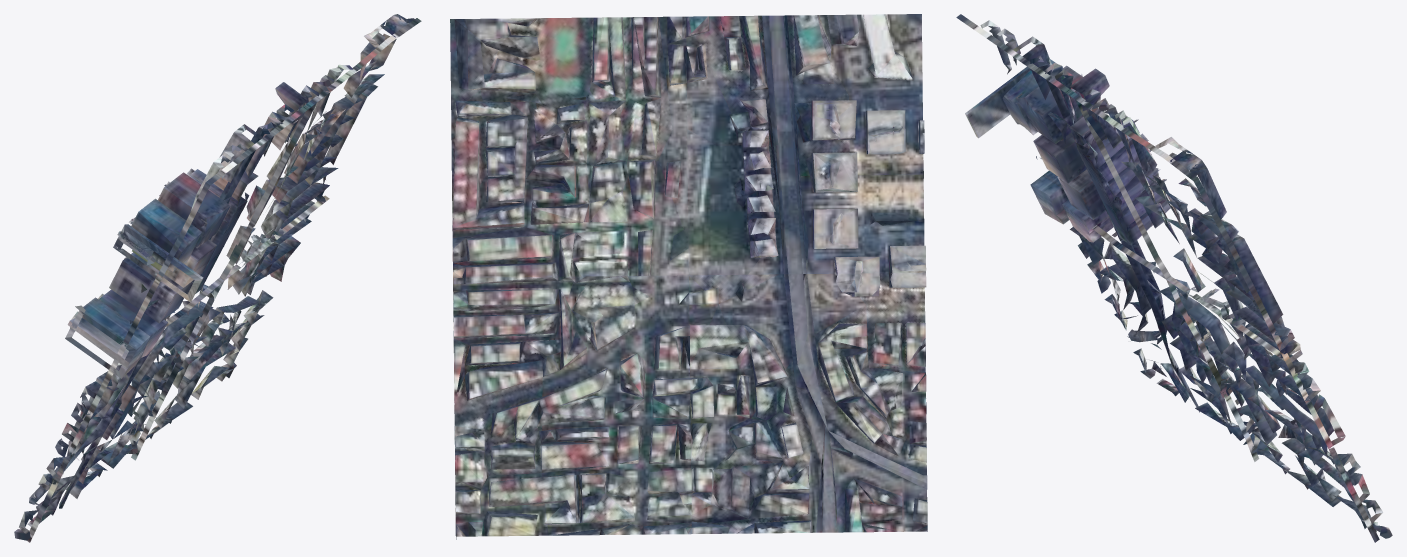
The picture shows the model from 3 angles, left to right: view 1: azimuth 30°, elevation 25°; view 2: azimuth 150°, elevation 25°; view 3: azimuth 270°, elevation 25°; orthographic projection. The views are drawn at different scales.
Bounding box in the file's own units: 619 × 573 × 533.
1 material, 1 textured.
